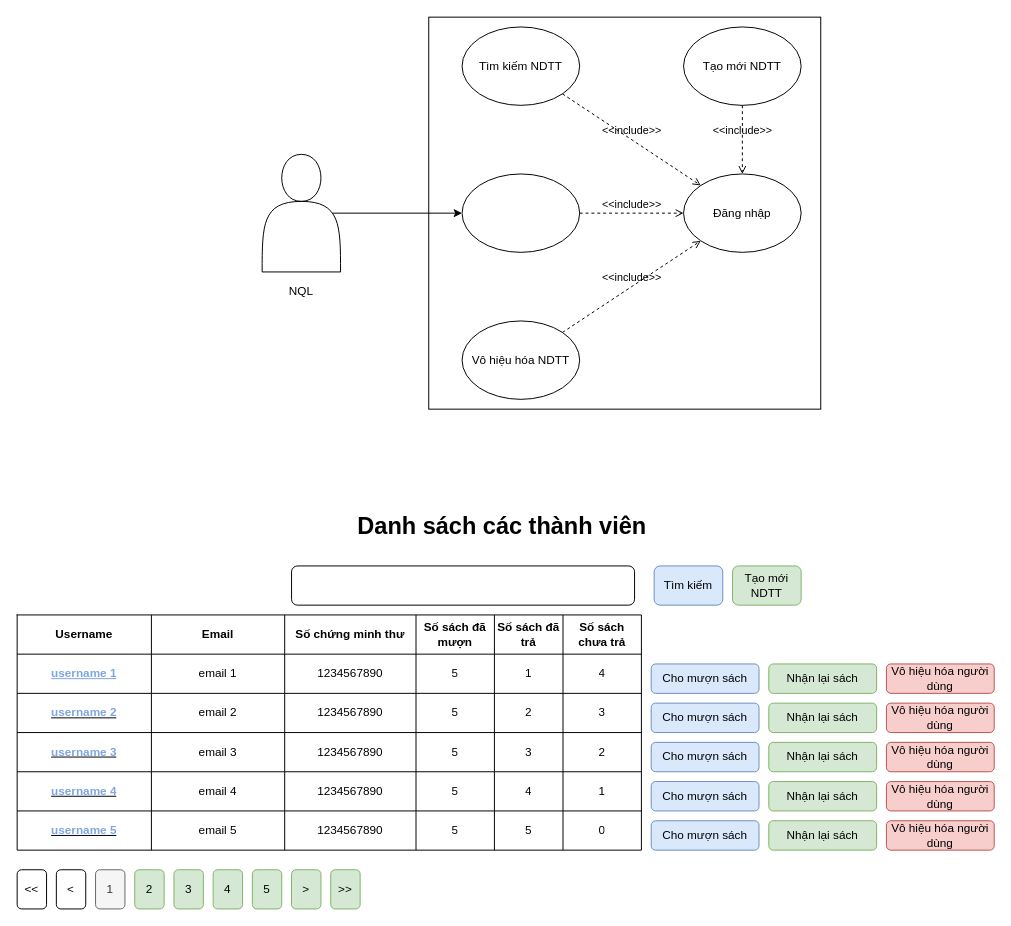
Some shapes in this 1011 by 926 pixel diagram are drawn without their labels. The shapes that lost their labels are listed below. From the top down, each one's box as (x1, y1, x2, y2) in pixels, then its label:
(461, 173, 580, 252): Xem danh sách các NDTT
(291, 565, 635, 605): Tìm kiếm người dùng
